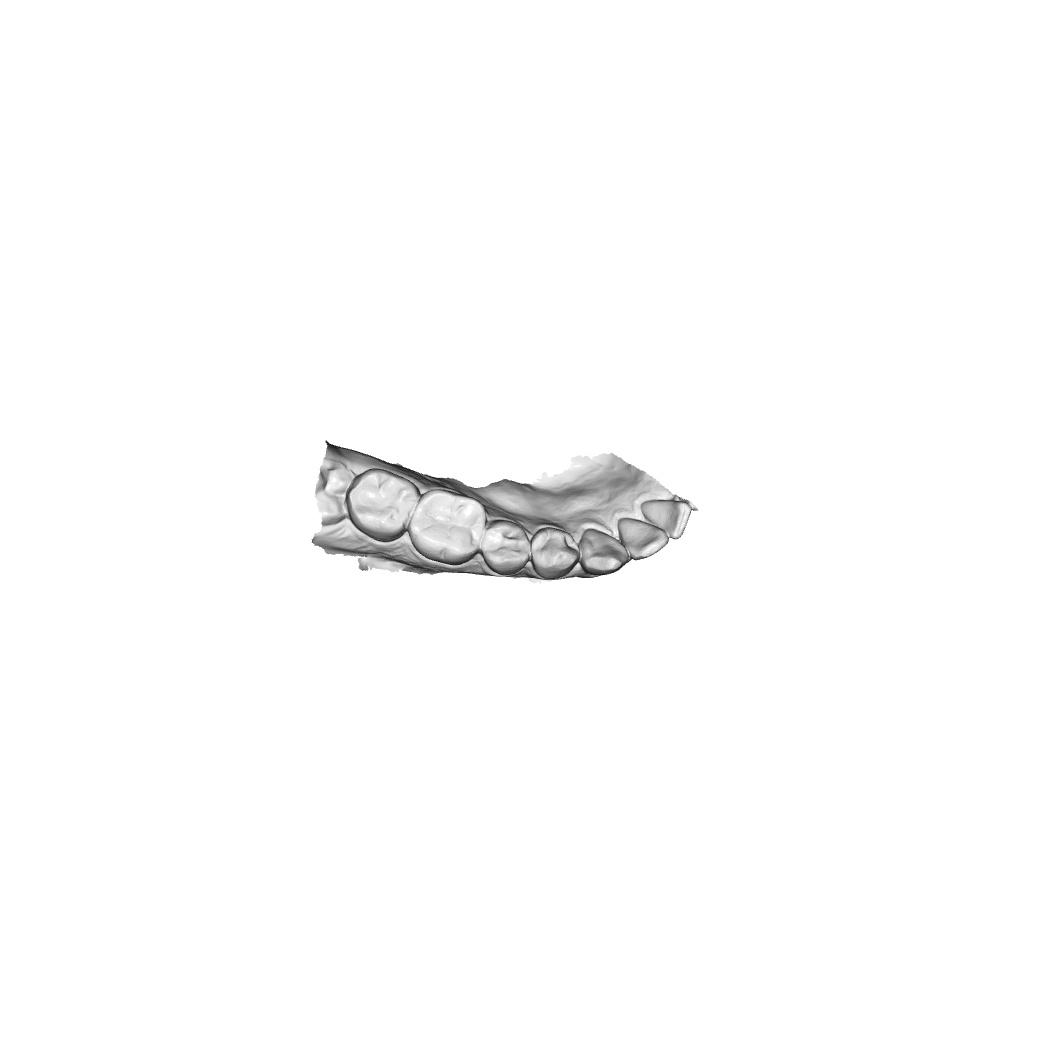canine: (578, 527, 630, 577)
incisor: (615, 515, 671, 562), (638, 498, 694, 541)
molar: (407, 487, 487, 567), (344, 467, 421, 544)
premolar: (481, 518, 530, 576), (531, 526, 580, 580)
